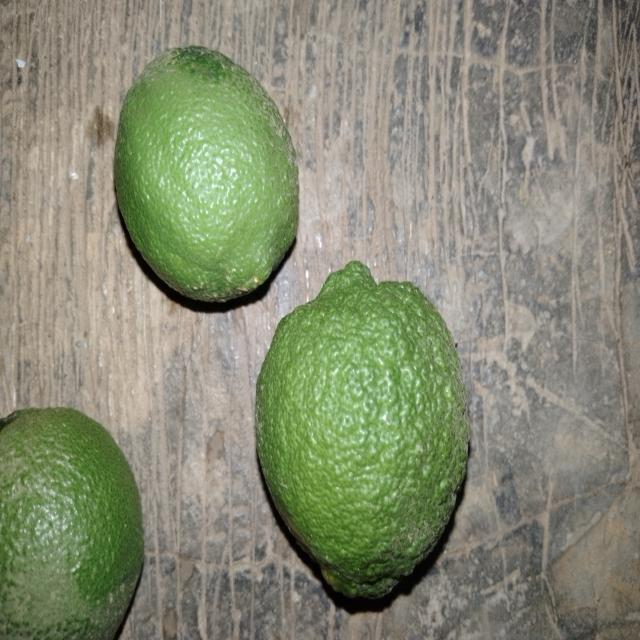Unripe: (252, 248, 478, 630), (112, 41, 306, 300), (6, 398, 151, 640)
